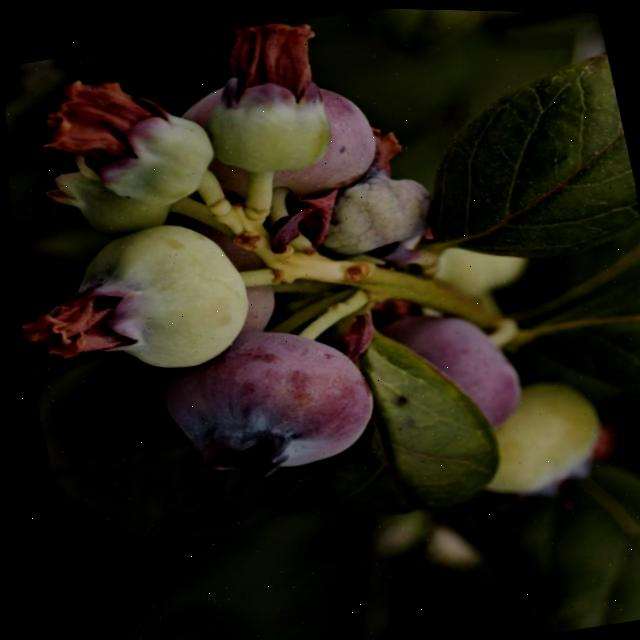Semi-RipeBlueBerry: (141, 306, 384, 487)
UnripeBlueBerry: (56, 203, 259, 379)
